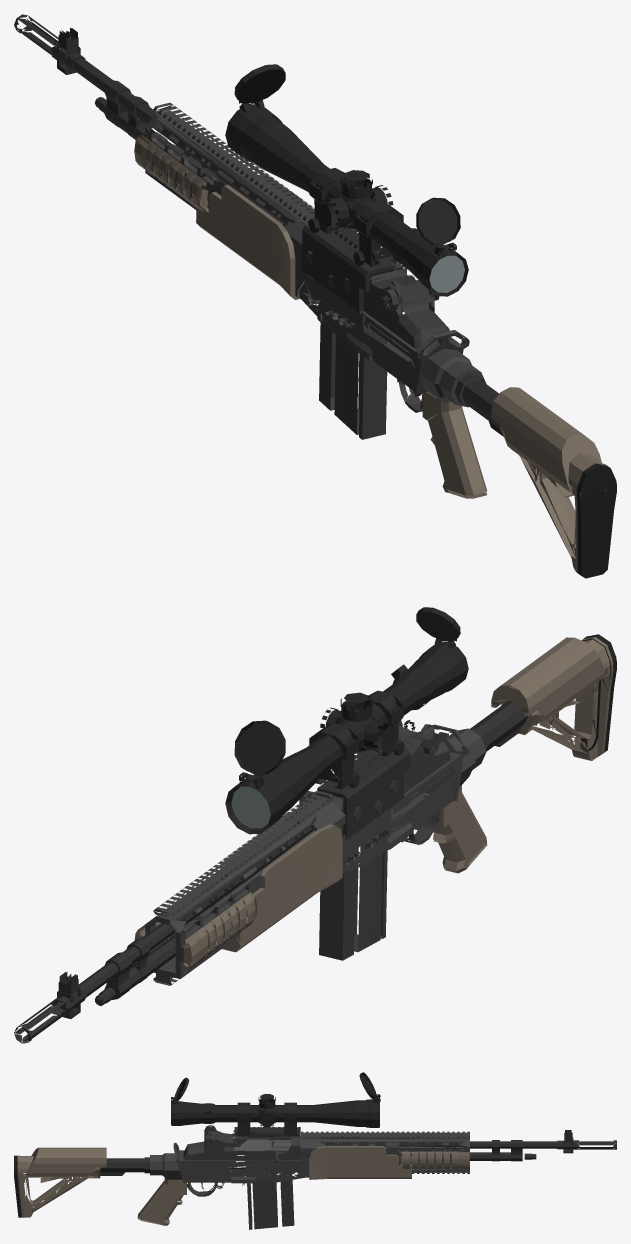
3 renders of one model, top to bottom at view 1: azimuth 30°, elevation 25°; view 2: azimuth 150°, elevation 25°; view 3: azimuth 270°, elevation 25°, orthographic. The views are drawn at different scales.
Parts seen in each view (by area): view 1: m21; view 2: m21; view 3: m21.
Part boxes in pixels (<box>): m21: <box>14,14,616,578</box>; m21: <box>14,607,616,1043</box>; m21: <box>14,1072,616,1229</box>.
Size of the model in its own units: 0.0786 by 0.2804 by 1.
Materials: 11 (11 with a texture image).
